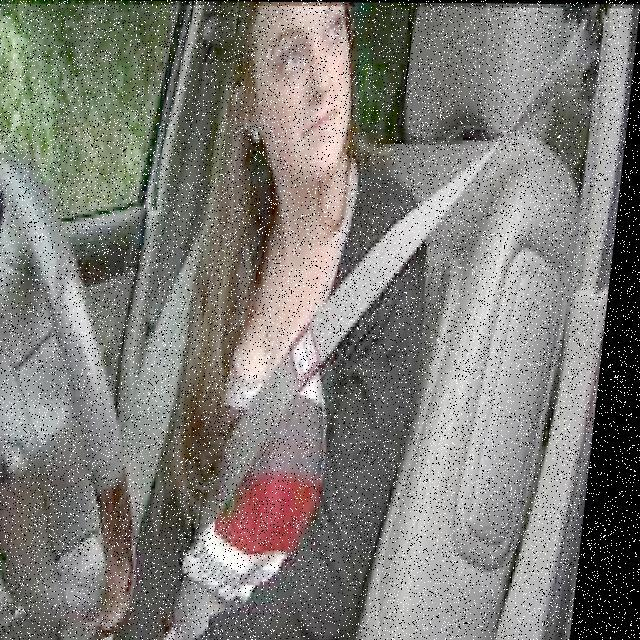seatbelt: (194, 157, 443, 549)
